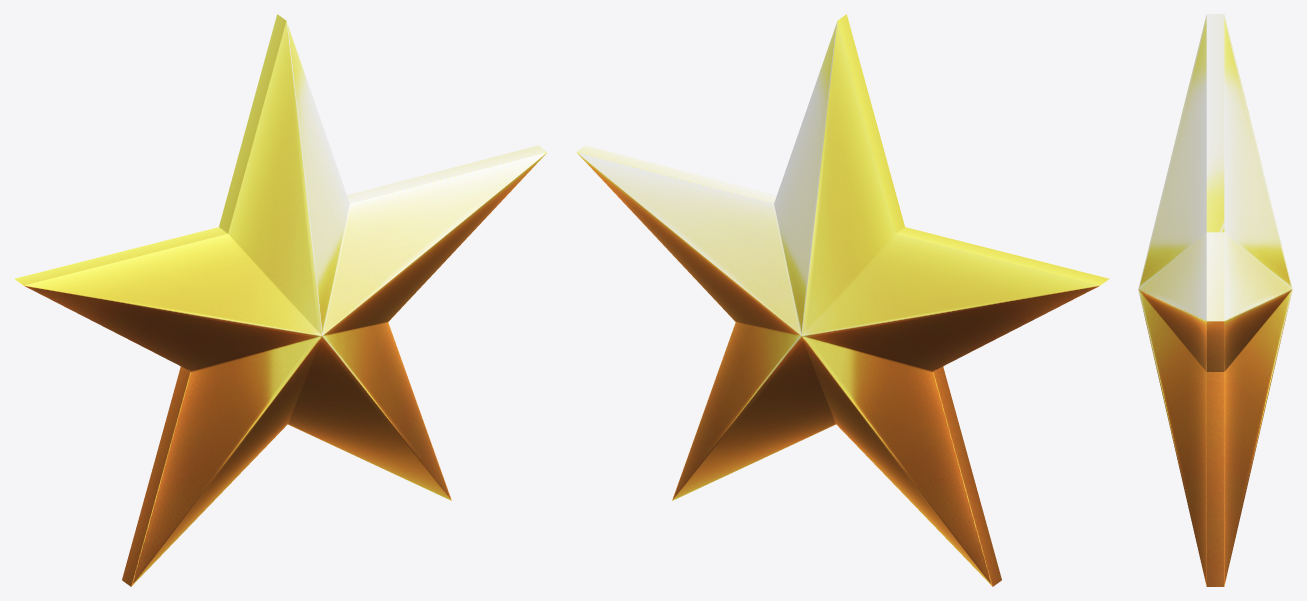
Rendered from Star_Gold.glb.
3 renders of one model, left to right at view 1: azimuth 30°, elevation 25°; view 2: azimuth 150°, elevation 25°; view 3: azimuth 270°, elevation 25°, orthographic. The views are drawn at different scales.
Visible parts, largest first — view 1: Star; view 2: Star; view 3: Star.
Part boxes in pixels (<box>): Star: <box>14,14,547,586</box>; Star: <box>576,14,1109,586</box>; Star: <box>1138,14,1292,586</box>.
Bounding box in the file's own units: 64.2 × 61.81 × 17.18.
Materials: 1 (1 with a texture image).
